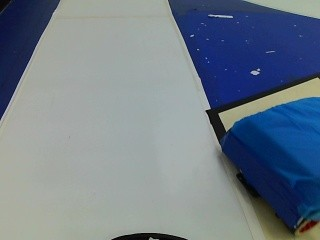car: (215, 86, 318, 237)
